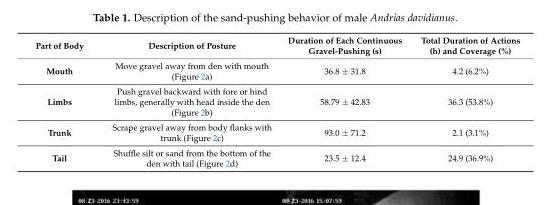table: (34, 34, 519, 168)
table column: (97, 34, 279, 168), (279, 34, 410, 168), (410, 34, 519, 168), (34, 34, 97, 168)
table column header: (34, 34, 519, 57)
table row: (34, 83, 519, 119), (34, 57, 519, 83), (34, 119, 519, 145), (34, 34, 519, 57), (34, 145, 519, 168)
